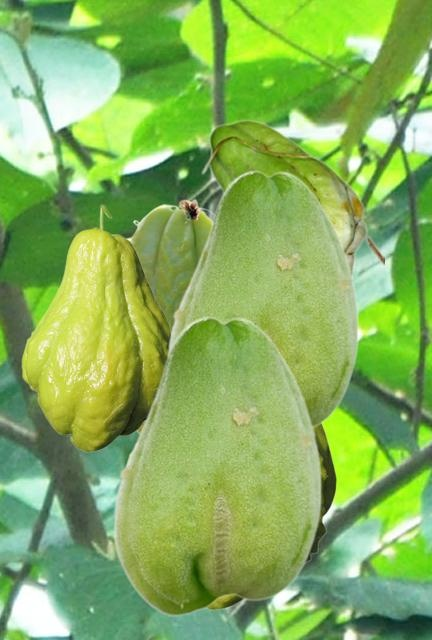sayote: (112, 315, 321, 615), (166, 169, 358, 429), (127, 424, 336, 609), (21, 204, 170, 451), (200, 119, 383, 274), (126, 198, 213, 433)
